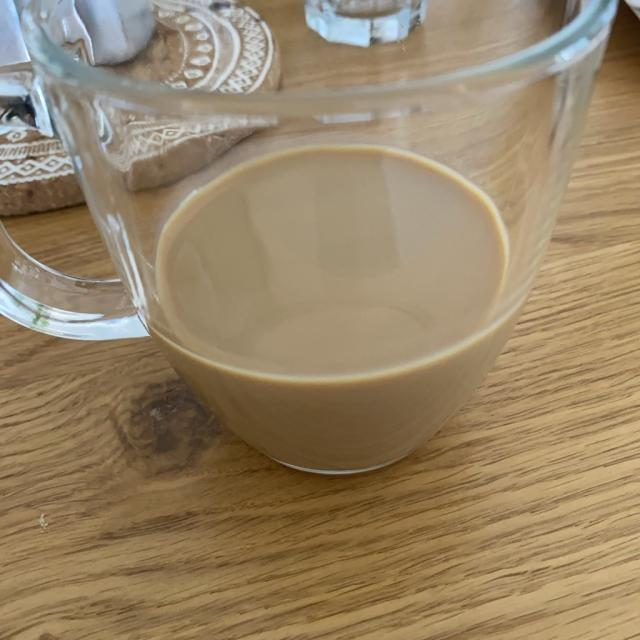coffee: (138, 144, 524, 456)
